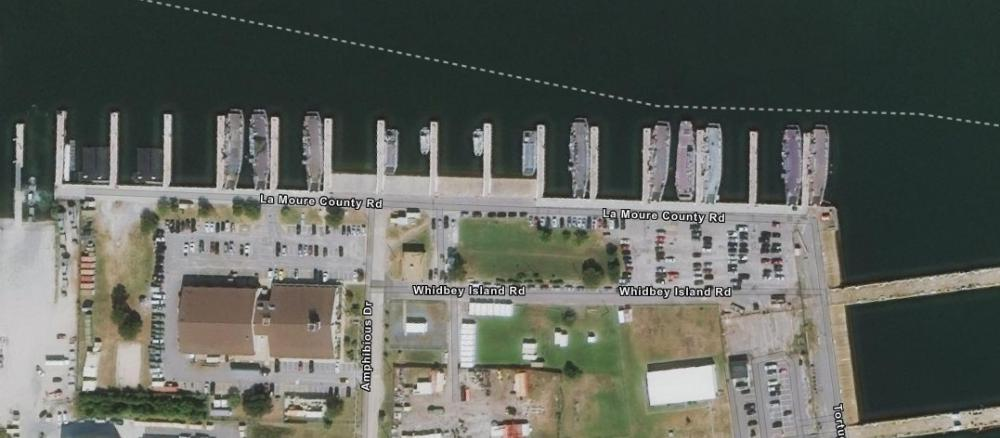barge: (248, 105, 277, 195), (300, 104, 327, 199), (567, 113, 592, 203), (650, 118, 675, 205), (781, 122, 804, 211), (675, 116, 697, 206), (702, 117, 723, 210), (222, 106, 243, 192), (812, 122, 832, 212)
